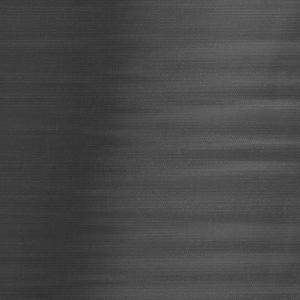Wrinkle: (153, 1, 300, 300), (1, 1, 119, 300)
